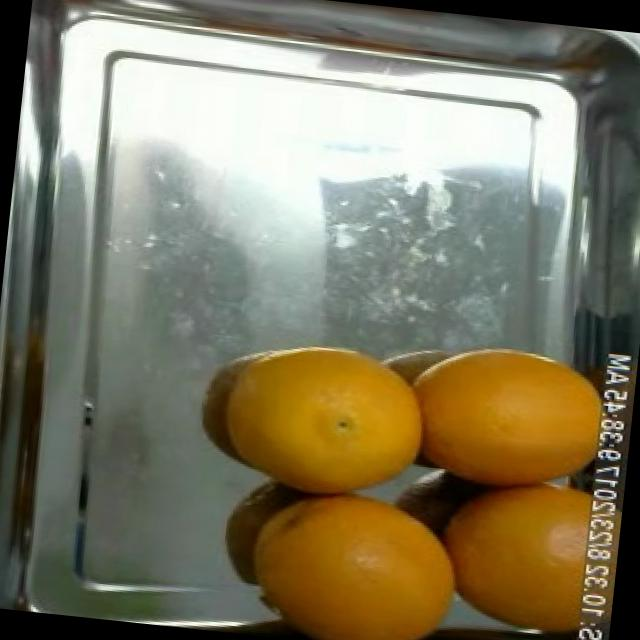Fruit: (412, 456, 615, 640)
